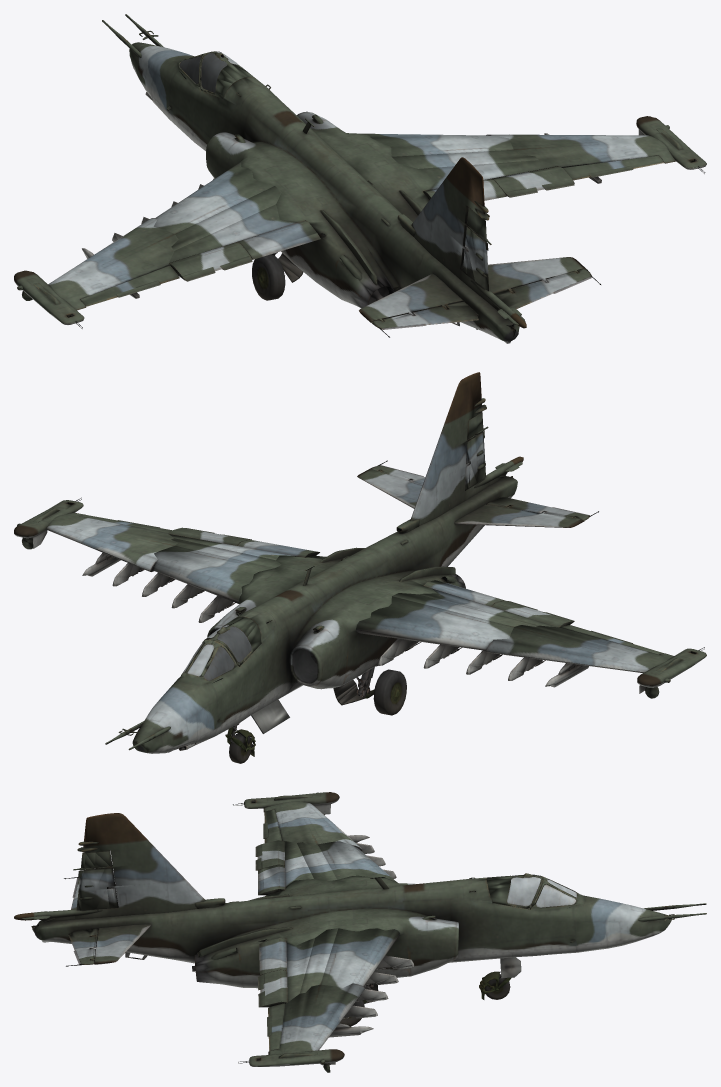
Rendered from frog.glb.
3 views of the same model, one above another, from view 1: azimuth 30°, elevation 25°; view 2: azimuth 150°, elevation 25°; view 3: azimuth 270°, elevation 25° (orthographic). The views are drawn at different scales.
Parts seen in each view (by area): view 1: hull; view 2: hull; view 3: hull.
Part boxes in pixels (left/top/right/bottom): hull: left=14, top=14, right=706, bottom=343; hull: left=14, top=372, right=706, bottom=763; hull: left=14, top=792, right=706, bottom=1072.
Bounding box in the file's own units: 14.09 × 4.6 × 15.33.
Materials: 1 (1 with a texture image).
